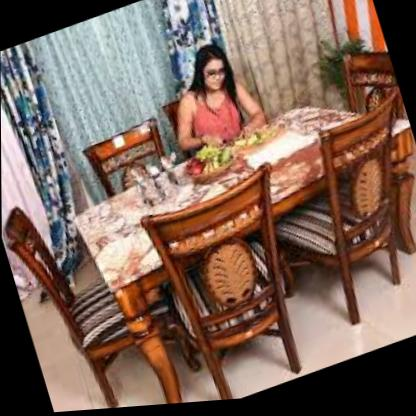Dining Table: (1, 78, 416, 416)
